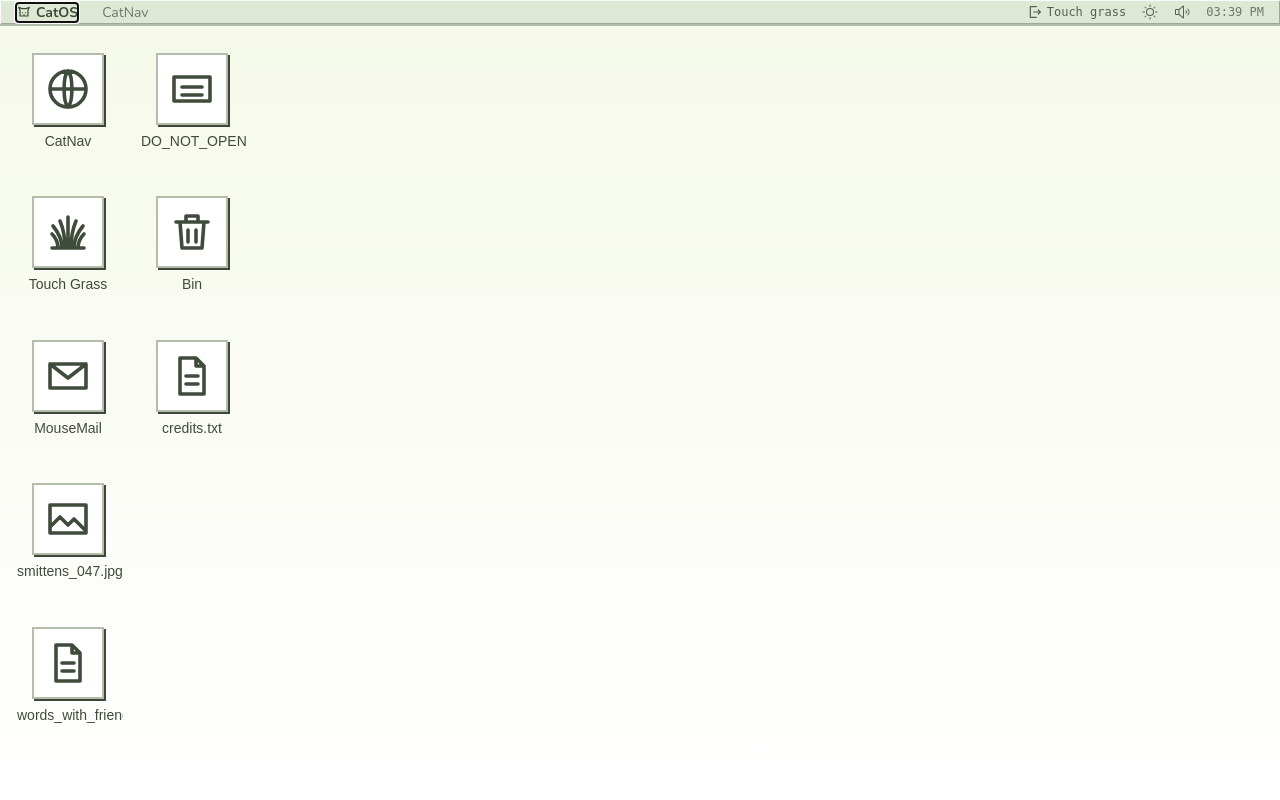
Test: LaptopScreenOverlay (CatOS) › the cat menu › hints Esc on the way out only while there is nothing left to close
Click the button with aria-label "CatOS menu" at (47, 12), box top-left (16, 2), bottom-right (78, 22)
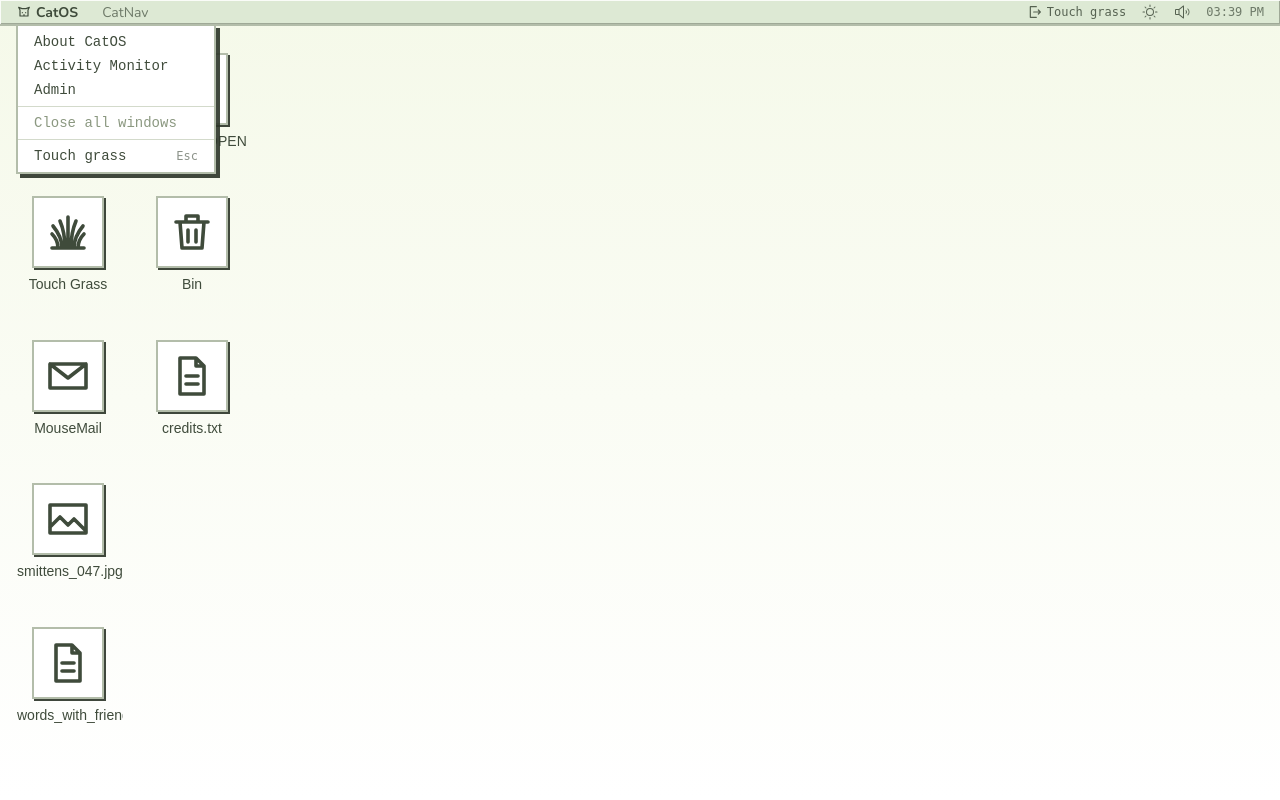
Now the text "Esc" is shown, box top-left (176, 149), bottom-right (198, 163)
